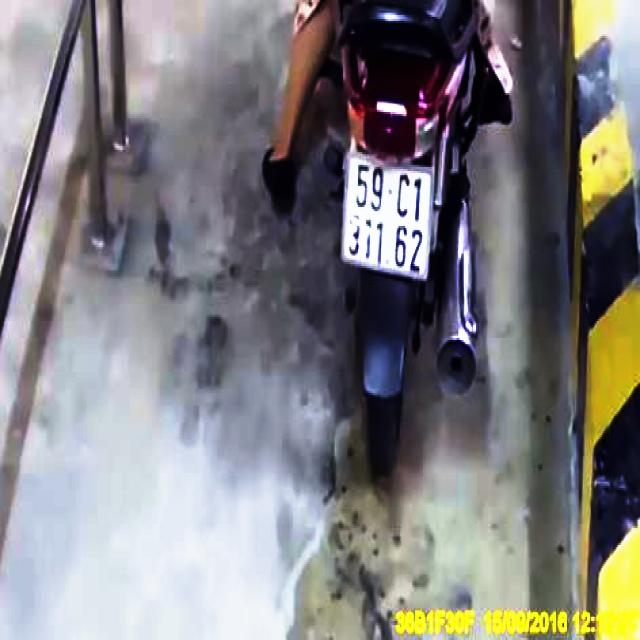license_plate: (345, 151, 435, 277)
